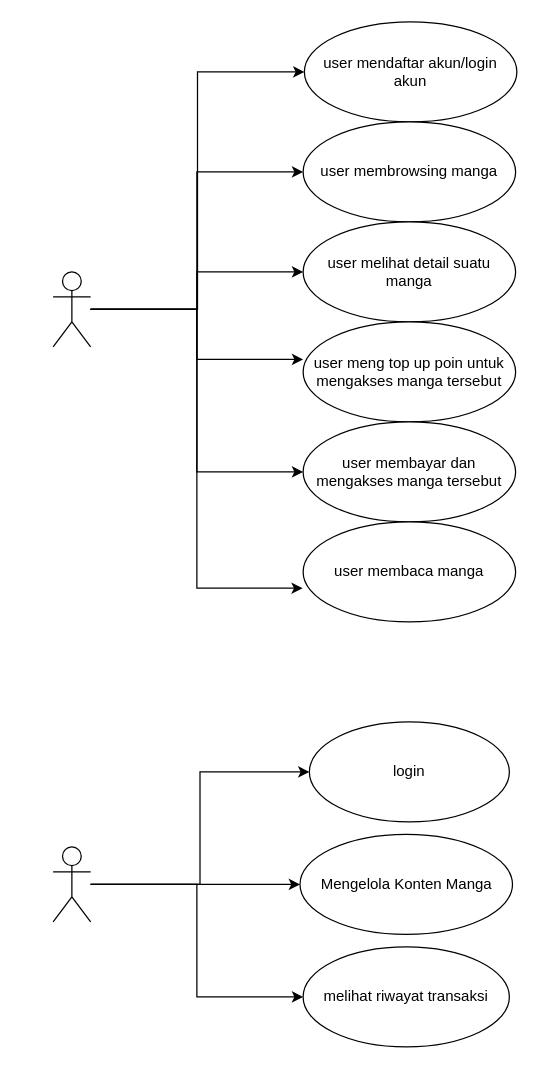
Some shapes in this 539 by 1069 pixel diagram are drawn without their labels. The shapes that lost their labels are listed below. From the top down, each one's centre as x and y in pixels, then its label:
the point at 71,309: user/pengguna
the point at 71,884: admin
